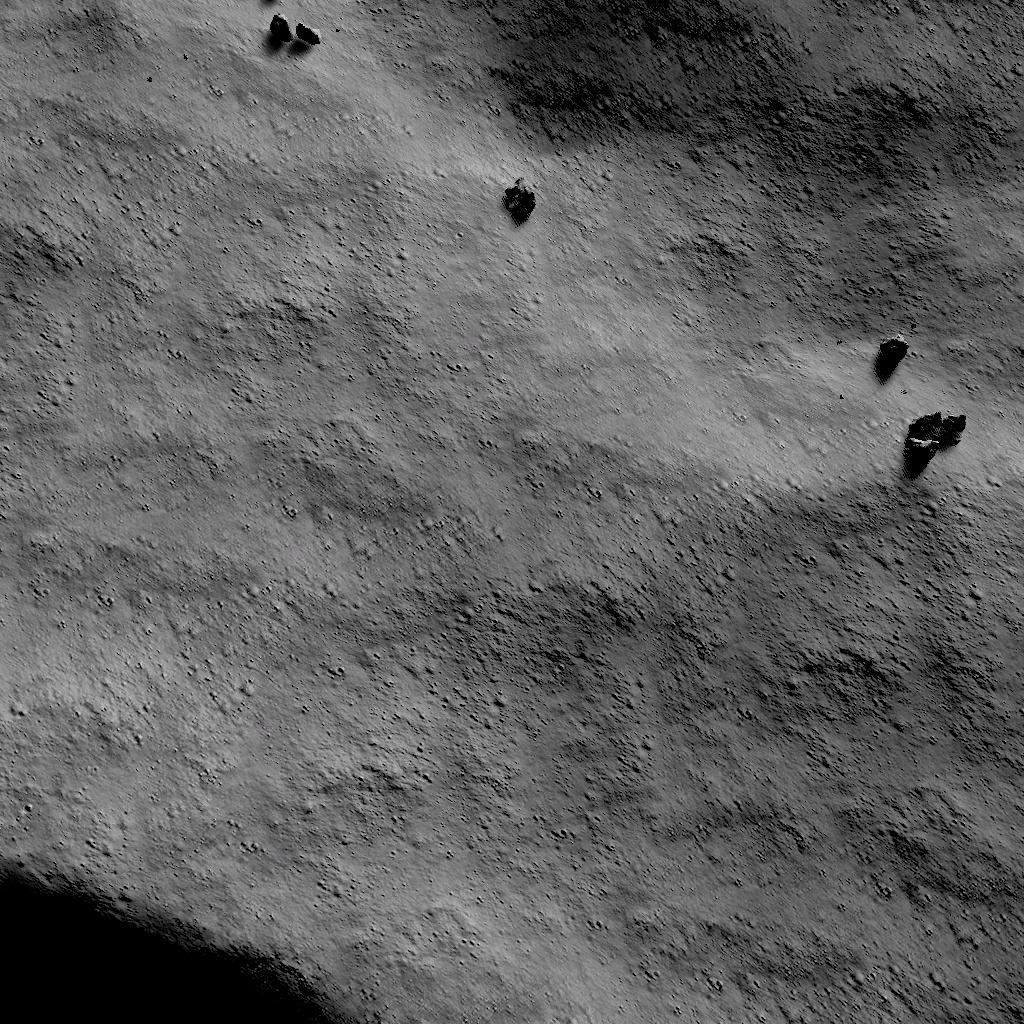Crater: (0, 794, 384, 1024), (0, 0, 159, 343)
Plan surface: (3, 356, 789, 777), (409, 790, 1024, 1024), (723, 0, 1024, 327), (807, 508, 1024, 769), (191, 126, 450, 338)
